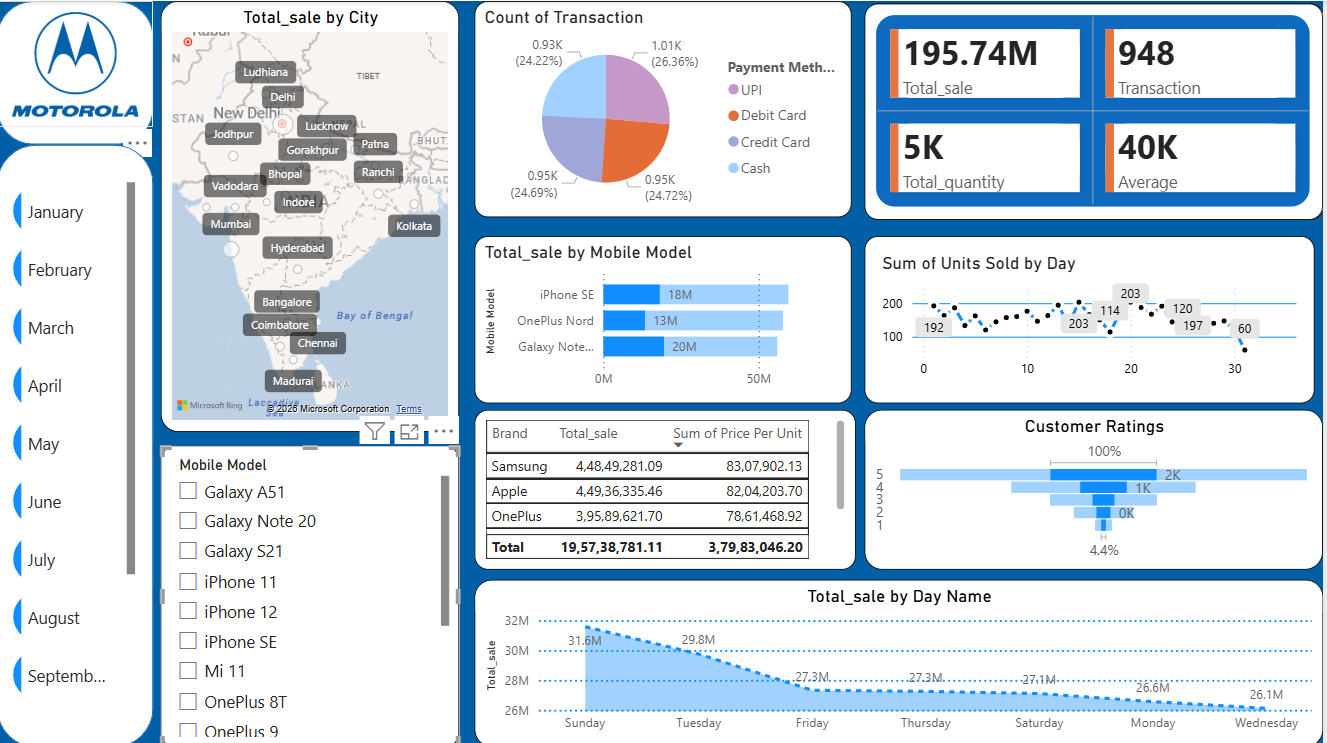

The dashboard page shown, as its layout file describes it:
{"tool":"powerbi","page":{"name":"Page 1","canvas":[1280,720],"ordinal":0},"visuals":[{"type":"shape","box":[0,0,150.9,138.6],"z":0},{"type":"image","box":[0,0,150.9,122.1],"z":1000},{"type":"shape","box":[0,138.6,150.9,581.8],"z":2000},{"type":"advancedSlicerVisual","fields":{"Values":["Sheet1.Custom.Variation.Date Hierarchy.Month"]},"box":[11.2,170,127.5,518.8],"z":3000},{"type":"cardVisual","fields":{"Data":["Sheet1.Total_sale","Sheet1.Total_quantity","Sheet1.Transaction","Sheet1.Average"]},"box":[838,3,442.8,208.7],"z":4000},{"type":"map","fields":{"Category":["Sheet1.City"],"Size":["Sheet1.Total_sale"]},"box":[158,0,288.3,416.2],"z":5000},{"type":"shape","box":[837.3,226.8,434.3,161.7],"z":6000},{"type":"barChart","fields":{"Category":["Sheet1.Mobile Model"],"Y":["Sheet1.Total_sale"]},"box":[460.9,226.8,364.3,161.7],"z":7000},{"type":"pieChart","title":"Count of Transaction ","fields":{"Category":["Sheet1.Payment Method"],"Y":["CountNonNull(Sheet1.Transaction ID)"]},"box":[463.3,3.6,364.3,208.7],"z":8000},{"type":"funnel","title":" Customer Ratings ","fields":{"Category":["Sheet1.Customer Ratings"],"Y":["Sum(Sheet1.Customer Ratings)"]},"box":[837.3,394.5,442.8,154.4],"z":9000},{"type":"areaChart","fields":{"Category":["Sheet1.Day Name"],"Y":["Sheet1.Total_sale"]},"box":[460.9,558.6,819.2,161.7],"z":10000},{"type":"tableEx","fields":{"Values":["Sheet1.Brand","Sheet1.Total_sale","Sum(Sheet1.Price Per Unit)"]},"box":[460.9,394.5,368,154.4],"z":11000},{"type":"lineChart","fields":{"Y":["Sum(Sheet1.Units Sold)"],"Category":["Sheet1.Custom.Variation.Date Hierarchy.Month","Sheet1.Custom.Variation.Date Hierarchy.Day"]},"box":[849.3,242.5,410.2,130.3],"z":12000},{"type":"slicer","fields":{"Values":["Sheet1.Mobile Model"]},"box":[158,429.5,288.3,290.8],"z":13000},{"type":"cardVisual","fields":{"Data":["Sheet1.Total_sale","Sheet1.Total_quantity","Sheet1.Transaction","Sheet1.Average"]},"box":[837.2,3,442.8,208.7],"z":14000}]}

Visuals, with their boxes in screenshot pixels (x1, y1, x2, y2), scaled from the page's 1280x720 canvas onto the 1327x743 screenshot:
shape: x1=0 y1=0 x2=156 y2=143
image: x1=0 y1=0 x2=156 y2=126
shape: x1=0 y1=143 x2=156 y2=742
advancedSlicerVisual - Sheet1.Custom.Variation.Date Hierarchy.Month: x1=12 y1=175 x2=144 y2=711
cardVisual - Sheet1.Total_sale x Sheet1.Total_quantity: x1=869 y1=3 x2=1326 y2=218
map - Sheet1.City x Sheet1.Total_sale: x1=164 y1=0 x2=463 y2=429
shape: x1=868 y1=234 x2=1318 y2=401
barChart - Sheet1.Mobile Model x Sheet1.Total_sale: x1=478 y1=234 x2=856 y2=401
"Count of Transaction " pieChart: x1=480 y1=4 x2=858 y2=219
" Customer Ratings " funnel: x1=868 y1=407 x2=1326 y2=566
areaChart - Sheet1.Day Name x Sheet1.Total_sale: x1=478 y1=576 x2=1326 y2=742
tableEx - Sheet1.Brand x Sheet1.Total_sale: x1=478 y1=407 x2=859 y2=566
lineChart - Sum(Sheet1.Units Sold) x Sheet1.Custom.Variation.Date Hierarchy.Month: x1=880 y1=250 x2=1306 y2=385
slicer - Sheet1.Mobile Model: x1=164 y1=443 x2=463 y2=742
cardVisual - Sheet1.Total_sale x Sheet1.Total_quantity: x1=868 y1=3 x2=1326 y2=218
